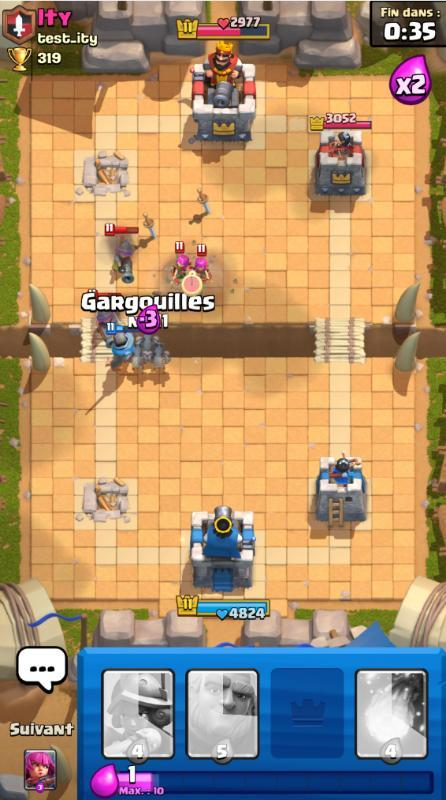archere: (171, 241, 192, 286), (189, 244, 212, 283)
chevalier: (105, 322, 141, 371)
gargouille: (148, 341, 171, 375), (125, 341, 148, 374), (135, 333, 159, 351)
mousquetaire: (104, 223, 139, 283), (88, 289, 122, 348)
